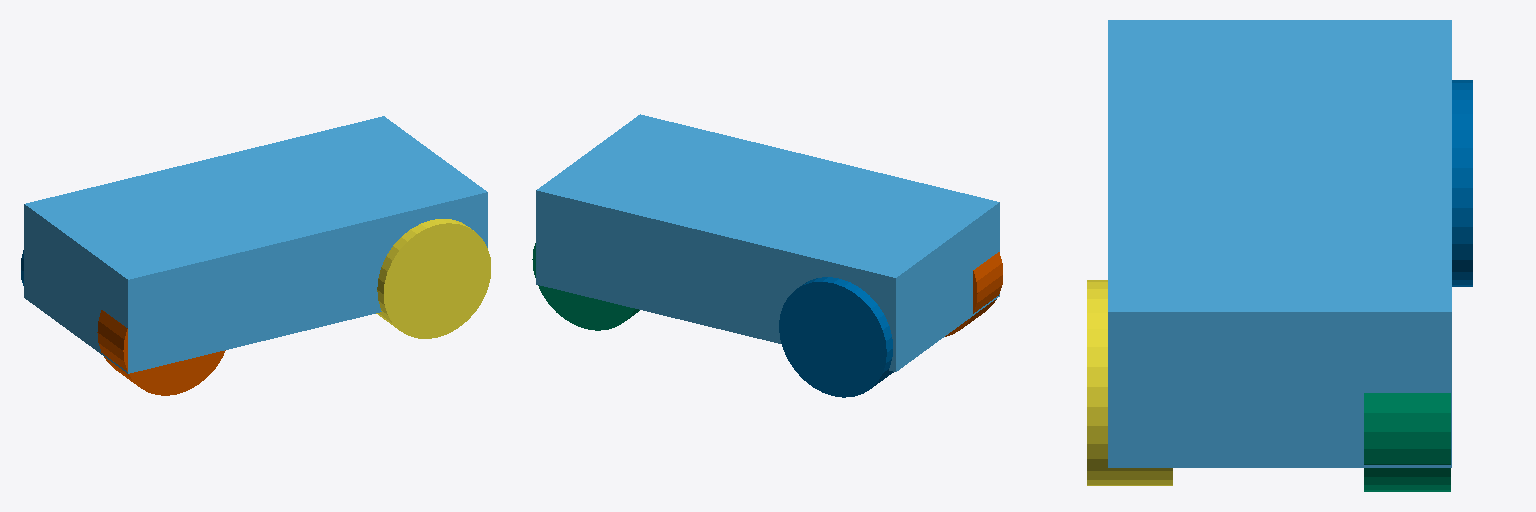
URDF robot description (bcar_description):
<?xml version="1.0" ?>
<!-- This URDF was automatically created by SolidWorks to URDF Exporter! Originally created by [author] ([email redacted]) 
     Commit Version: 1.6.0-4-g7f85cfe  Build Version: 1.6.7995.38578
     For more information, please see http://wiki.ros.org/sw_urdf_exporter -->
<robot name="bcar_description">
    <link name="robot_footprint"/>
    <joint name="robot_footprint_joint" type="fixed">
        <origin rpy="0 0 0" xyz="0 0 0"/>
        <parent link="robot_footprint"/>
        <child link="base_link"/>
    </joint>
    <link name="base_link">
        <inertial>
        <pose>0 0 0.1 0 0 0</pose>
        <origin xyz="0 0 0" rpy="0 0 0"/>
        <mass value="15.0"/>
        <inertia ixx="0.1" ixy="0" ixz="0" iyy="0.1" iyz="0" izz="0.1"/>
        </inertial>
        <visual name="basic_visual">
        <origin xyz="0 0 0" rpy="0 0 0"/>
        <geometry>
            <box size=".4 .2 .1"/>
            <!-- <mesh filename="package://acar_description/meshes/base_link.STL"/> -->
        </geometry>
        </visual>
        <collision name="collision">
        <origin xyz="0 0 0" rpy="0 0 0"/>
        <geometry>
            <box size=".4 .2 .1"/>
            <!-- <mesh filename="package://acar_description/meshes/base_link.STL" /> -->
        </geometry>
        </collision>
    </link>
    <link name="Wheel_FL">
        <inertial>
        <origin xyz="0.0 0 0" rpy="0 1.5707 1.5707"/>
        <mass value="5.0"/>
        <inertia ixx="0.1" ixy="0" ixz="0" iyy="0.1" iyz="0" izz="0.1"/>
        </inertial>
        <visual>
        <origin xyz="0 0 0" rpy="0 1.5707 1.5707"/>
        <geometry>
            <cylinder length="0.05" radius="0.06"/>
            <!-- <mesh filename="package://acar_description/meshes/Wheel_FL.STL"/> -->
        </geometry>
        </visual>
        <collision>
        <origin xyz="0 0 0" rpy="0 1.5707 1.5707"/>
        <geometry>
            <cylinder length="0.05" radius="0.06"/>
            <!-- <mesh filename="package://acar_description/meshes/Wheel_FL.STL"/> -->
        </geometry>
        </collision>
    </link>
    <joint name="Wheel_FL_joint" type="continuous">
        <origin xyz="0.1446 0.07419 -0.025" rpy="0 0 0"/>
        <parent link="base_link"/>
        <child link="Wheel_FL"/>
        <axis xyz="0 1 0" rpy="0 0 0"/>
    </joint>
    <link name="Wheel_FR">
        <inertial>
        <origin xyz="0 0 0" rpy="0 1.5707 1.5707"/>
        <mass value="5.0"/>
        <inertia ixx="0.1" ixy="0" ixz="0" iyy="0.1" iyz="0" izz="0.1"/>
        </inertial>
        <visual>
        <origin xyz="0 0 0" rpy="0 1.5707 1.5707"/>
        <geometry>
            <cylinder length="0.05" radius="0.06"/>
            <!-- <mesh filename="package://acar_description/meshes/Wheel_FR.STL"/> -->
        </geometry>
        </visual>
        <collision>
        <origin xyz="0 0 0" rpy="0 1.5707 1.5707"/>
        <geometry>
            <cylinder length="0.05" radius="0.06"/>
            <!-- <mesh filename="package://acar_description/meshes/Wheel_FR.STL" /> -->
        </geometry>
        </collision>
    </link>
    <joint name="Wheel_FR_jiont" type="continuous">
        <origin xyz="0.13698 -0.087235 -0.025" rpy="0 0 0"/>
        <parent link="base_link"/>
        <child link="Wheel_FR"/>
        <axis xyz="0 1 0" rpy="0 0 0"/>
    </joint>
    <link name="Wheel_RL">
        <inertial>
        <origin xyz="0 0 0" rpy="0 1.5707 1.5707"/>
        <mass value="5.0"/>
        <inertia ixx="0.1" ixy="0" ixz="0" iyy="0.1" iyz="0" izz="0.1"/>
        </inertial>
        <visual>
        <origin xyz="0 0 0" rpy="0 1.5707 1.5707"/>
        <geometry>
            <cylinder length="0.05" radius="0.06"/>
            <!-- <mesh filename="package://acar_description/meshes/Wheel_RL.STL" /> -->
        </geometry>
        </visual>
        <collision>
        <origin xyz="0 0 0" rpy="0 1.5707 1.5707" />
        <geometry>
            <cylinder length="0.05" radius="0.06"/>
            <!-- <mesh filename="package://acar_description/meshes/Wheel_RL.STL" /> -->
        </geometry>
        </collision>
    </link>
    <joint name="Wheel_RL_joint" type="continuous">
        <origin xyz="-0.13701 0.087485 -0.025" rpy="0 0 0"/>
        <parent link="base_link"/>
        <child link="Wheel_RL"/>
        <axis xyz="0 1 0" rpy="0 0 0"/>
    </joint>
    <link name="Wheel_RR">
        <inertial>
        <origin xyz="0 0 0" rpy="0 1.5707 1.5707"/>
        <mass value="5.0"/>
        <inertia ixx="0.1" ixy="0" ixz="0" iyy="0.1" iyz="0" izz="0.1"/>
        </inertial>
        <visual>
        <origin xyz="0 0 0" rpy="0 1.5707 1.5707"/>
        <geometry>
            <cylinder length="0.05" radius="0.06"/>
            <!-- <mesh filename="package://acar_description/meshes/Wheel_RR.STL" /> -->
        </geometry>
        </visual>
        <collision>
        <origin xyz="0 0 0" rpy="0 1.5707 1.5707"/>
        <geometry>
            <cylinder length="0.05" radius="0.06"/>
            <!-- <mesh filename="package://acar_description/meshes/Wheel_RR.STL"/> -->
        </geometry>
        </collision>
    </link>
    <joint name="Wheel_RR_joint" type="continuous">
        <origin xyz="-0.14463 -0.07394 -0.025" rpy="0 0 0"/>
        <parent link="base_link"/>
        <child link="Wheel_RR"/>
        <axis xyz="0 1 0" rpy="0 0 0"/>
    </joint>
    <gazebo reference="base_link">
        <material>Gazebo/Gray</material>
    </gazebo>
    <gazebo reference="Wheel_FL">
        <material>Gazebo/Gray</material>
    </gazebo>
    <gazebo reference="Wheel_FR">
        <material>Gazebo/Gray</material>
    </gazebo>
    <gazebo reference="Wheel_RL">
        <material>Gazebo/Gray</material>
    </gazebo>
    <gazebo reference="Wheel_RR">
        <material>Gazebo/Gray</material>
    </gazebo>
</robot>

--- Render facts (derived) ---
3 views of the same robot in one strip: view 1: azimuth 30°, elevation 25°; view 2: azimuth 150°, elevation 25°; view 3: azimuth 270°, elevation 25° (orthographic).
Robot: bcar_description — 6 links, 5 joints (4 continuous, 1 fixed); root link robot_footprint; default pose: all joints at 0.
Visible links, largest first — view 1: base_link, Wheel_FR, Wheel_RR; view 2: base_link, Wheel_RL, Wheel_FL, Wheel_RR; view 3: base_link, Wheel_FL, Wheel_FR, Wheel_RL.
Link boxes in pixels (x1,y1,x2,y2): base_link: (24,116,487,373); Wheel_FR: (376,219,490,338); Wheel_RR: (97,310,225,395); base_link: (536,114,999,371); Wheel_RL: (779,277,893,397); Wheel_FL: (532,243,639,330); Wheel_RR: (945,252,1002,336); base_link: (1108,20,1451,467); Wheel_FL: (1364,393,1450,491); Wheel_FR: (1087,280,1172,485); Wheel_RL: (1452,80,1472,286).
Bounding box of the posed robot: 0.4092 × 0.2247 × 0.135 m (x, y, z).
Geometry: primitives only (box / cylinder / sphere), no mesh files.